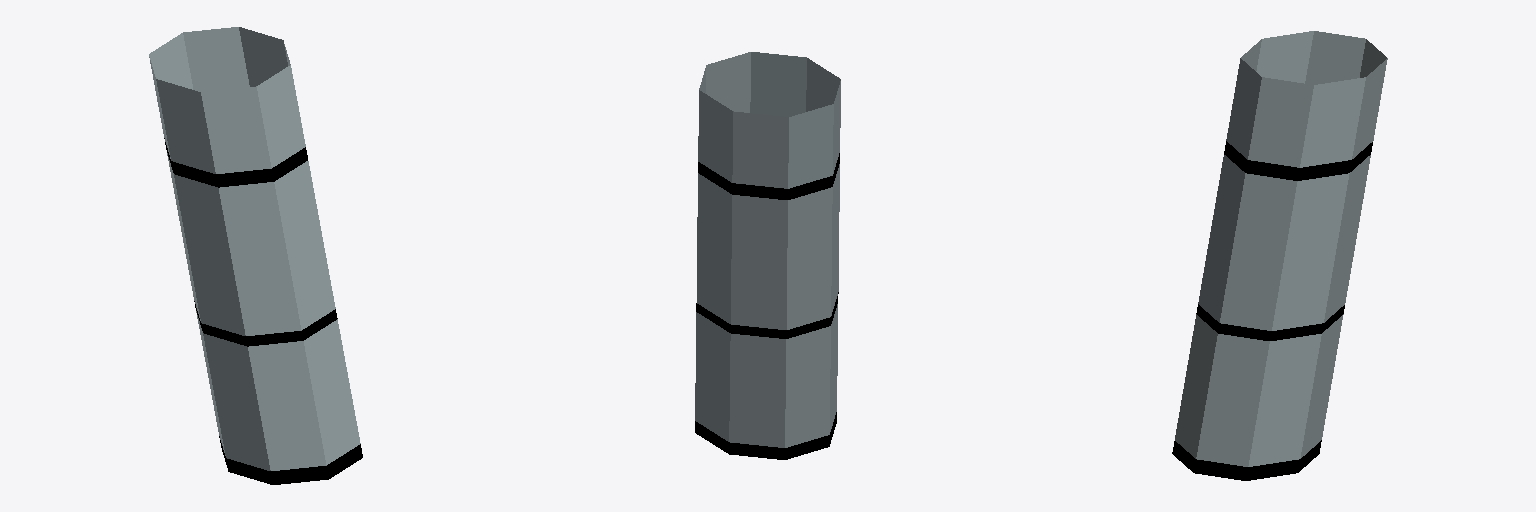
The picture shows the model from 3 angles: view 1: azimuth 30°, elevation 25°; view 2: azimuth 150°, elevation 25°; view 3: azimuth 270°, elevation 25°; orthographic projection.
Parts seen in each view (by area): view 1: pierna1_2; view 2: pierna1_2; view 3: pierna1_2.
Boxes of the visible parts, x1=… form: pierna1_2: x1=149, y1=27, x2=362, y2=484; pierna1_2: x1=695, y1=52, x2=840, y2=459; pierna1_2: x1=1172, y1=31, x2=1387, y2=480.
Bounding box in the file's own units: 0.25 × 0.5555 × 0.2817.
Materials: 2 (1 with a texture image).